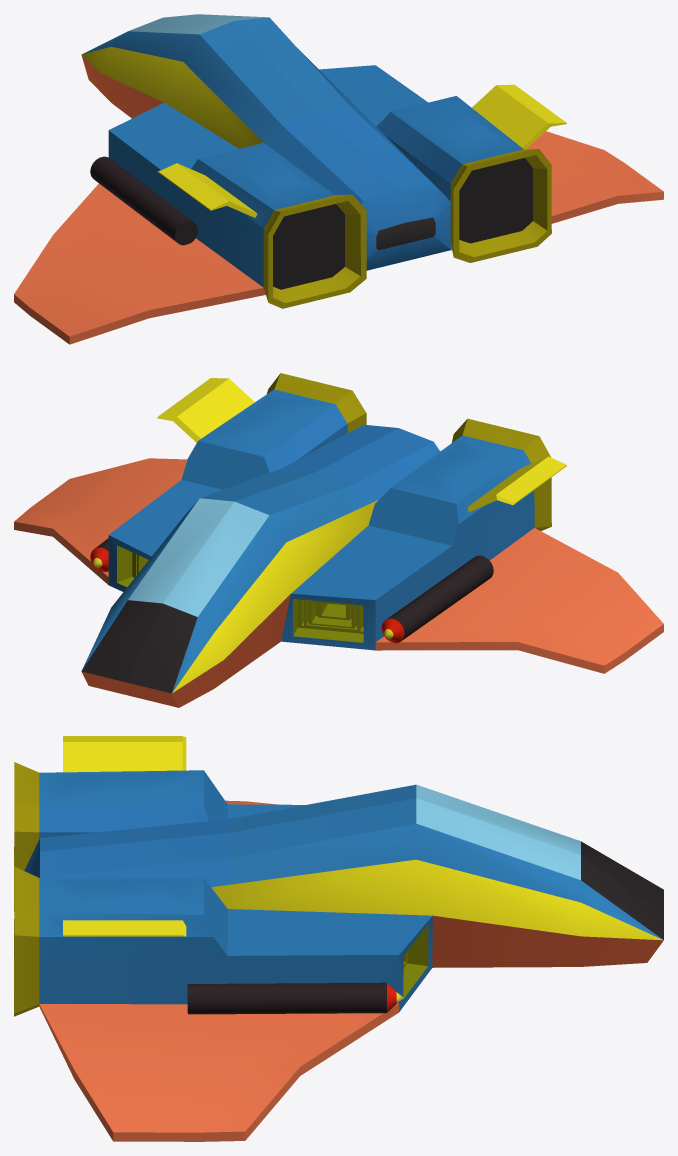
The model's file is spaceship.fbx.
The picture shows the model from 3 angles, top to bottom: view 1: azimuth 30°, elevation 25°; view 2: azimuth 150°, elevation 25°; view 3: azimuth 270°, elevation 25°; orthographic projection. The views are drawn at different scales.
Parts seen in each view (by area): view 1: Cube.001; view 2: Cube.001; view 3: Cube.001.
Boxes of the visible parts, bbox=[...] form: Cube.001: bbox=[14, 14, 663, 344]; Cube.001: bbox=[14, 373, 663, 707]; Cube.001: bbox=[14, 736, 663, 1141].
Bounding box in the file's own units: 1915 × 477 × 1583.
